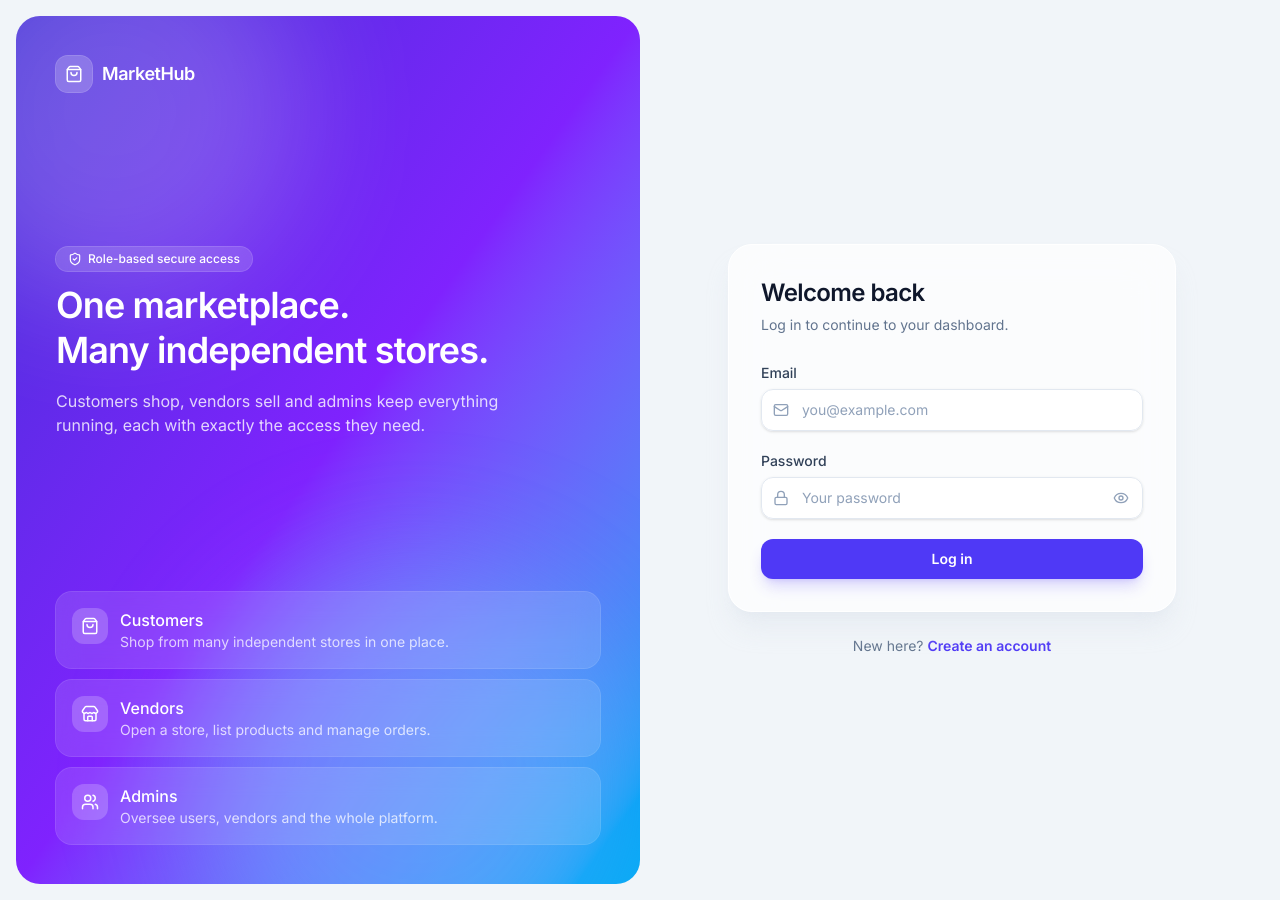
Login › field errors from the server appear under the right input
Click the button "Log in" at (952, 559), box left=761, top=539, right=1143, bottom=579
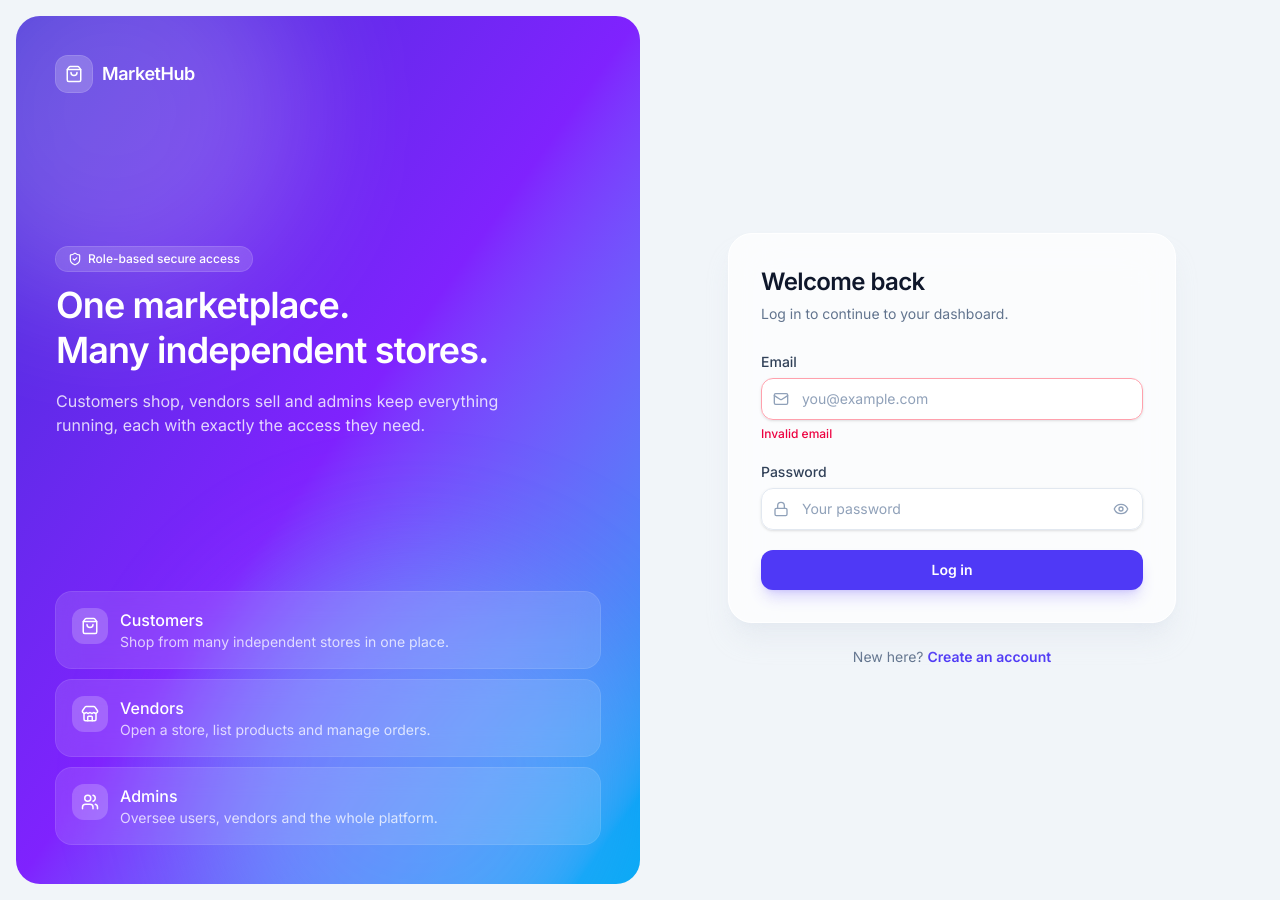
Now the text "Invalid email" is shown, box left=761, top=426, right=832, bottom=441
